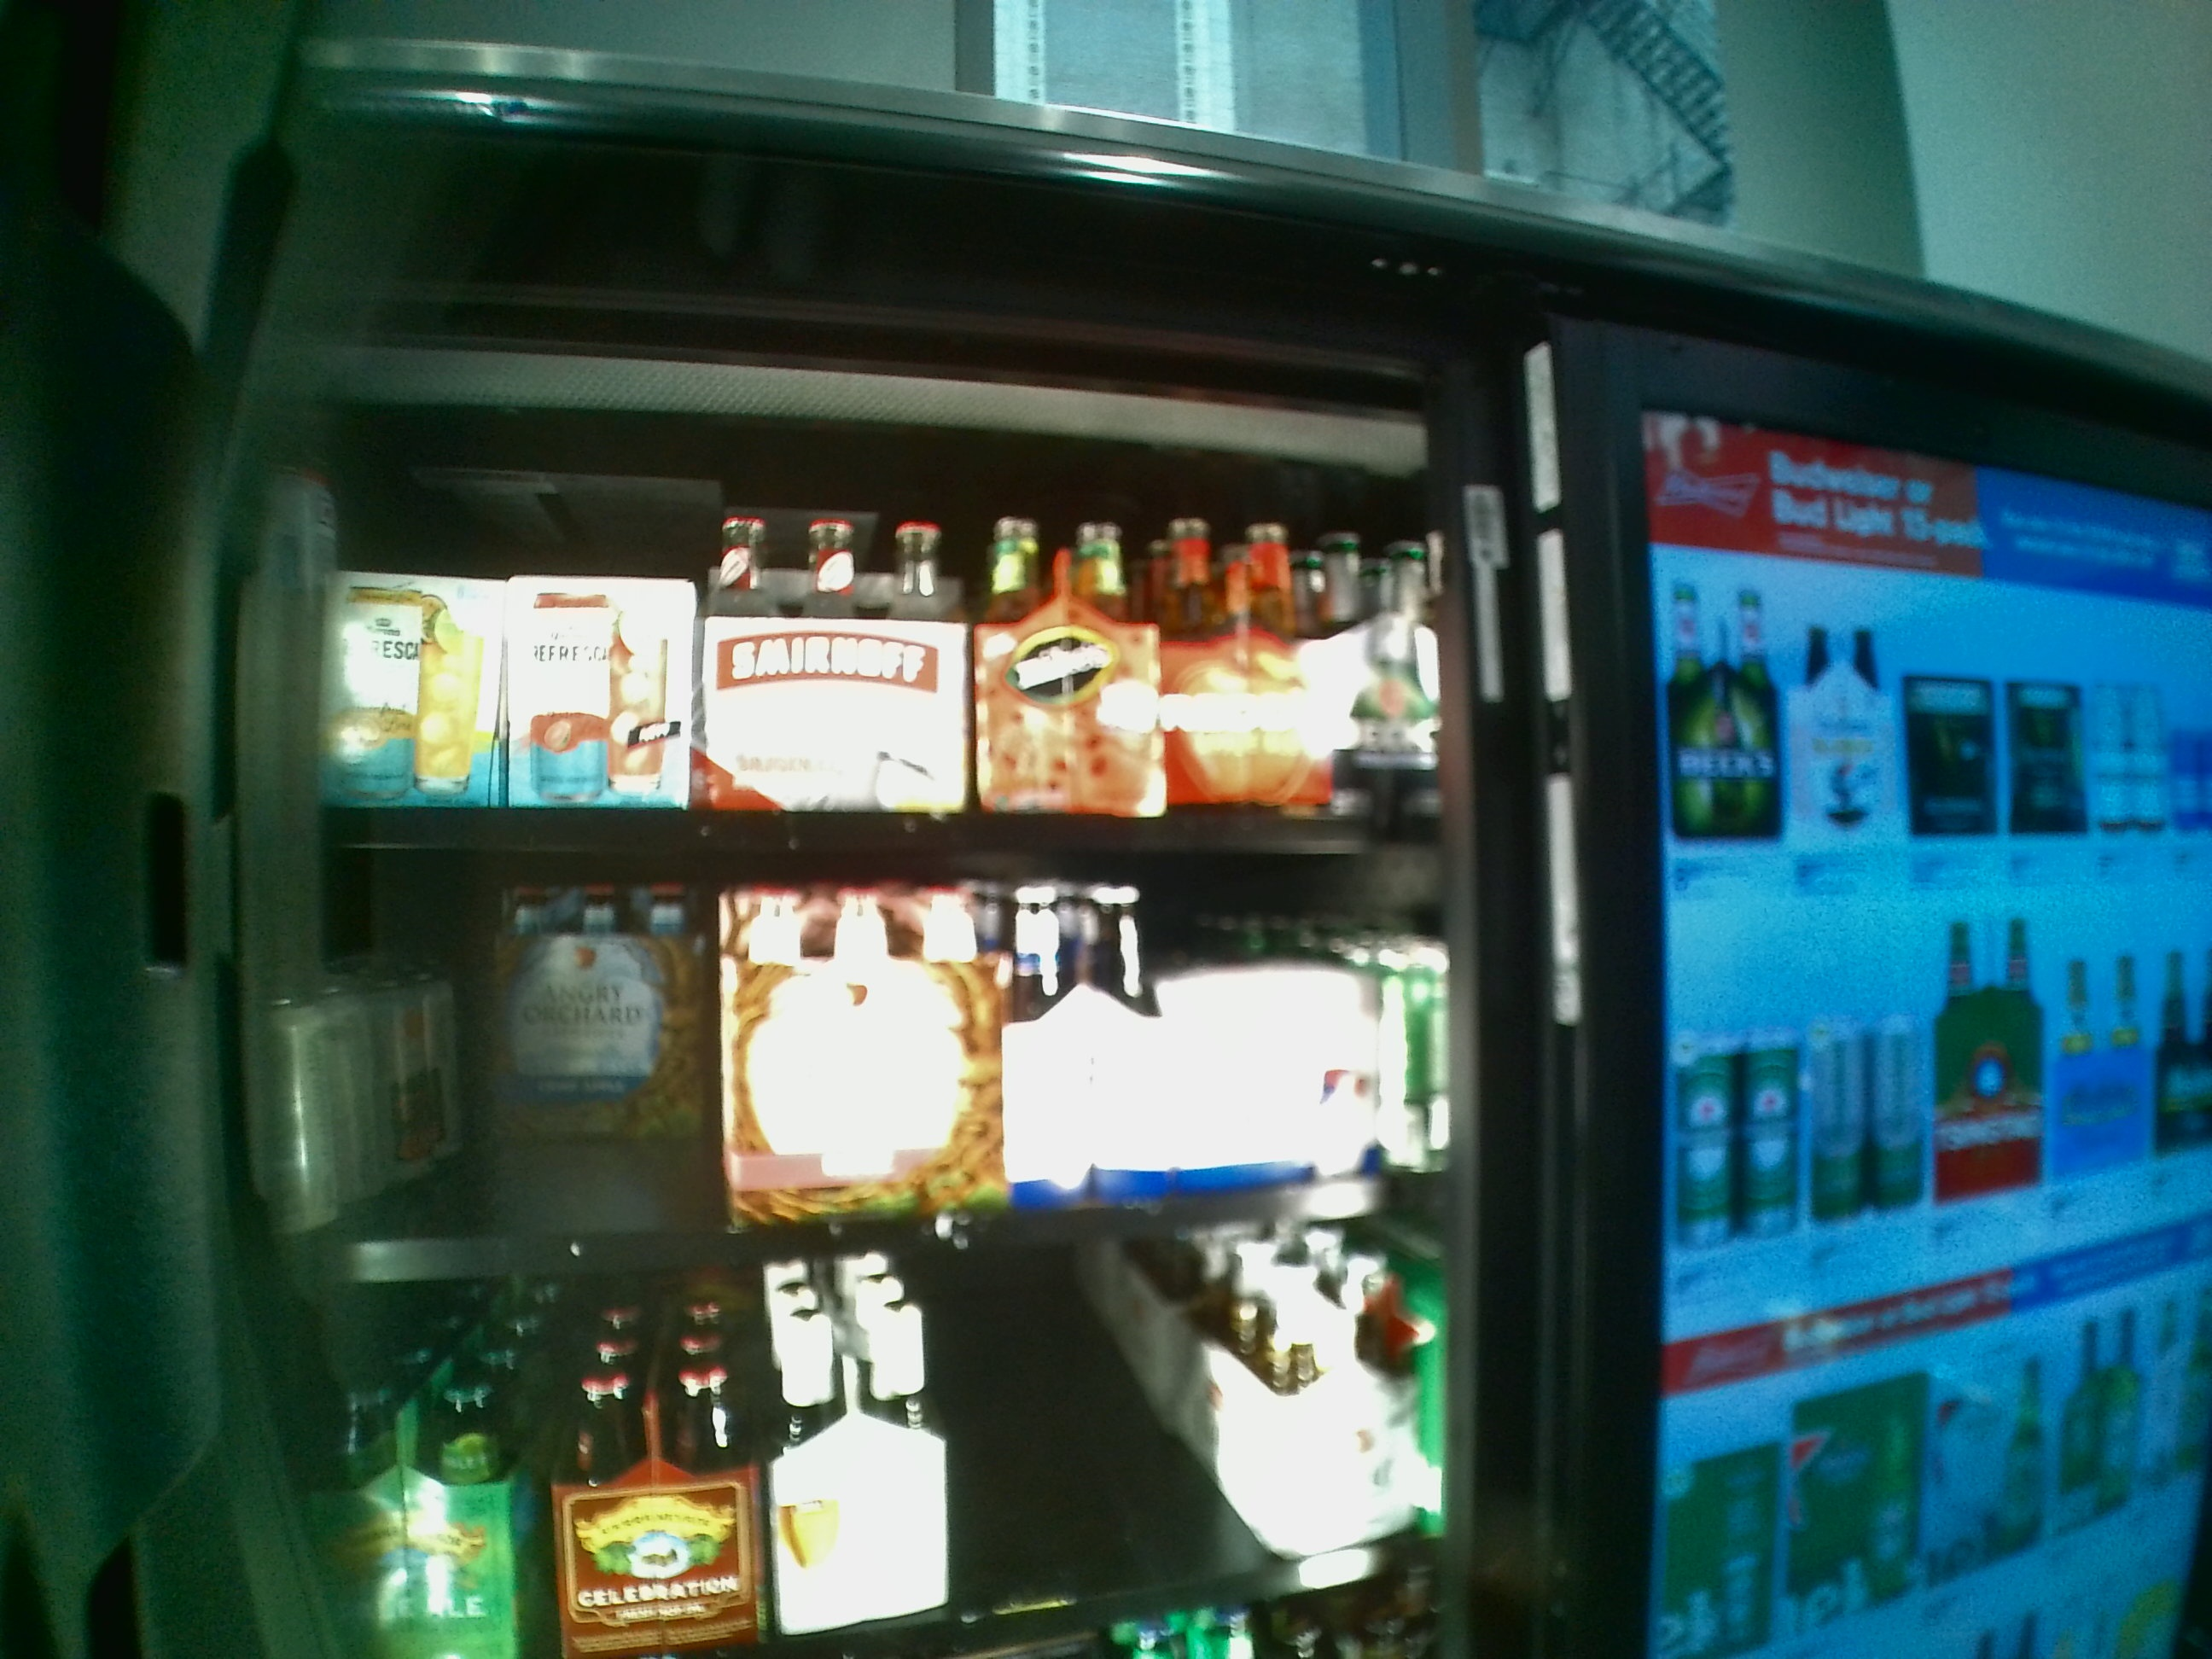shelf: (279, 878, 1447, 1291), (275, 465, 1439, 868)
